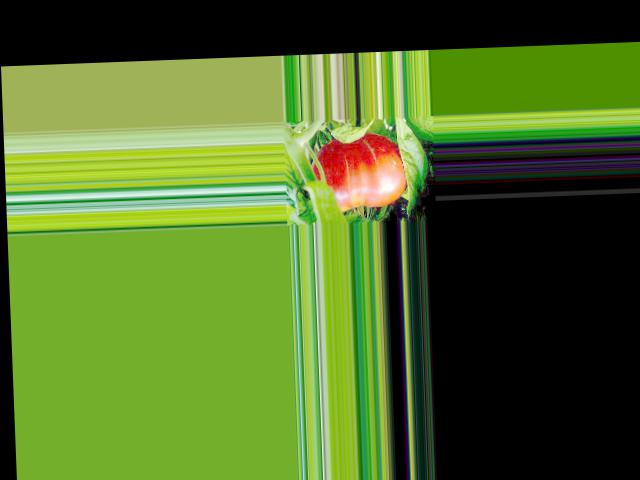tomato: (309, 131, 408, 213)
